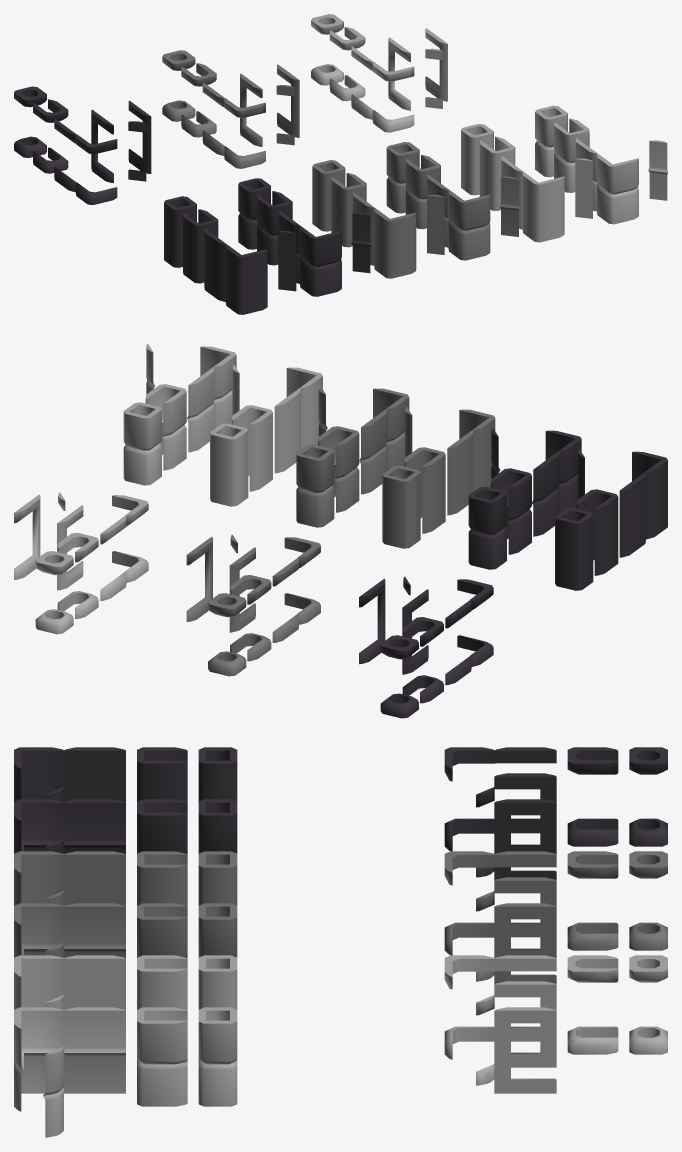
Rendered from MetalWallPanels.fbx.
The picture shows the model from 3 angles, top to bottom: view 1: azimuth 30°, elevation 25°; view 2: azimuth 150°, elevation 25°; view 3: azimuth 270°, elevation 25°; orthographic projection. The views are drawn at different scales.
Parts seen in each view (by area): view 1: Wall Panel Light L-1-a, Wall Panel L-1-a, Wall Panel Dark L-1-a, Wall Panel L-1-b, Wall Panel Light L-1-b, Wall Panel Dark L-1-b, Wall Panel Dark C-a, Wall Panel Light C-a, Wall Panel Dark C-b, Wall Panel Light C-b, Wall Panel O-a, Wall Panel C-a (+36 smaller); view 2: Wall Panel Dark O-a, Wall Panel O-a, Wall Panel Light O-a, Wall Panel Dark O-b, Wall Panel Light O-b, Wall Panel O-b, Wall Panel Dark C-a, Wall Panel C-a, Wall Panel C-b, Wall Panel Light C-b, Wall Panel Dark C-b, Wall Panel Light C-a (+30 smaller); view 3: Wall Panel Light I-b, Wall Panel Light C-b, Wall Panel Light O-b, Wall Panel Light L-1-b, Wall Panel Dark I-a, Wall Panel Light I-a, Wall Panel I-a, Wall Panel I-b, Wall Panel Dark I-b, Window Panel Light I-3, Window Panel Dark C, Window Panel C (+32 smaller).
Part boxes in pixels (x1,y1,x2,y2): Wall Panel Light L-1-a: (522,172,564,242); Wall Panel L-1-a: (374,208,416,278); Wall Panel Dark L-1-a: (225,244,267,314); Wall Panel L-1-b: (448,190,490,260); Wall Panel Light L-1-b: (597,154,638,224); Wall Panel Dark L-1-b: (300,226,341,296); Wall Panel Dark C-a: (183,209,218,283); Wall Panel Light C-a: (479,136,515,210); Wall Panel Dark C-b: (257,191,292,265); Wall Panel Light C-b: (554,118,589,192); Wall Panel O-a: (312,160,345,231); Wall Panel C-a: (331,173,366,247); Wall Panel Dark O-a: (555,507,593,590); Wall Panel O-a: (382,465,420,548); Wall Panel Light O-a: (210,423,248,506); Wall Panel Dark O-b: (468,486,506,569); Wall Panel Light O-b: (123,402,161,485); Wall Panel O-b: (296,444,334,527); Wall Panel Dark C-a: (577,489,618,575); Wall Panel C-a: (404,447,445,533); Wall Panel C-b: (318,426,359,512); Wall Panel Light C-b: (145,384,186,470); Wall Panel Dark C-b: (490,468,531,554); Wall Panel Light C-a: (232,405,272,491); Wall Panel Light I-b: (63,1007,125,1093); Wall Panel Light C-b: (137,1007,187,1106); Wall Panel Light O-b: (198,1007,237,1106); Wall Panel Light L-1-b: (14,1007,63,1111); Wall Panel Dark I-a: (63,747,125,802); Wall Panel Light I-a: (63,955,125,1010); Wall Panel I-a: (63,851,125,906); Wall Panel I-b: (63,903,125,958); Wall Panel Dark I-b: (63,799,125,854); Window Panel Light I-3: (494,1007,556,1093); Window Panel Dark C: (567,747,618,846); Window Panel C: (567,851,618,950).
Bounding box in the file's own units: 11.82 × 1.49 × 10.63.
